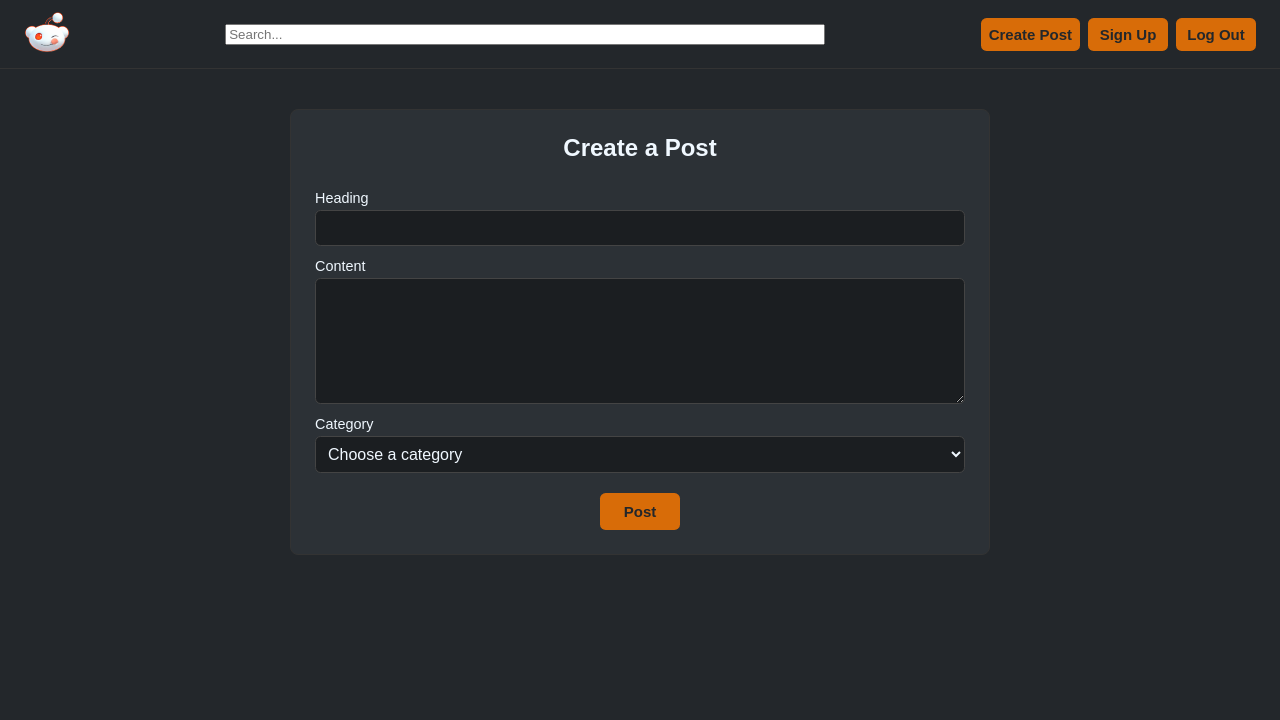
Test: shows the server's error when the post is rejected
In the field labelled "Heading": (640, 228) [315,210,965,246], type "My brand new post"
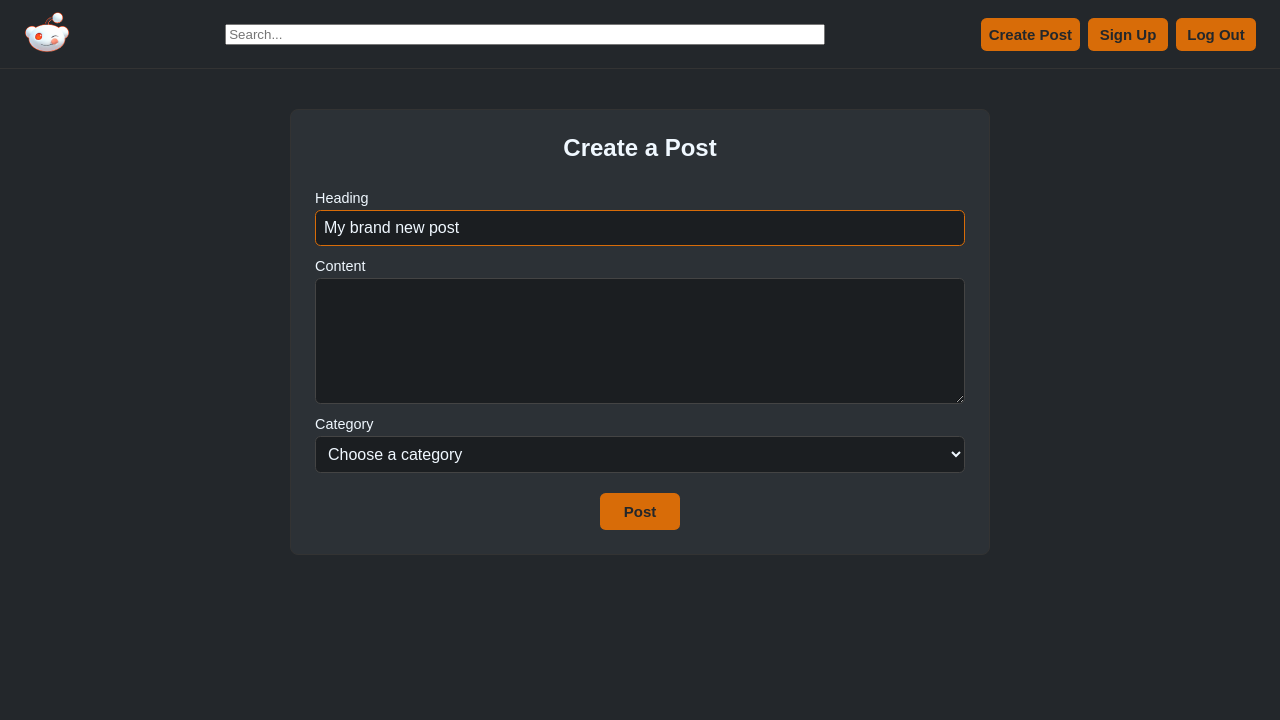
In the text box labelled "Content": (640, 341) [315,278,965,404], type "Something worth sharing"
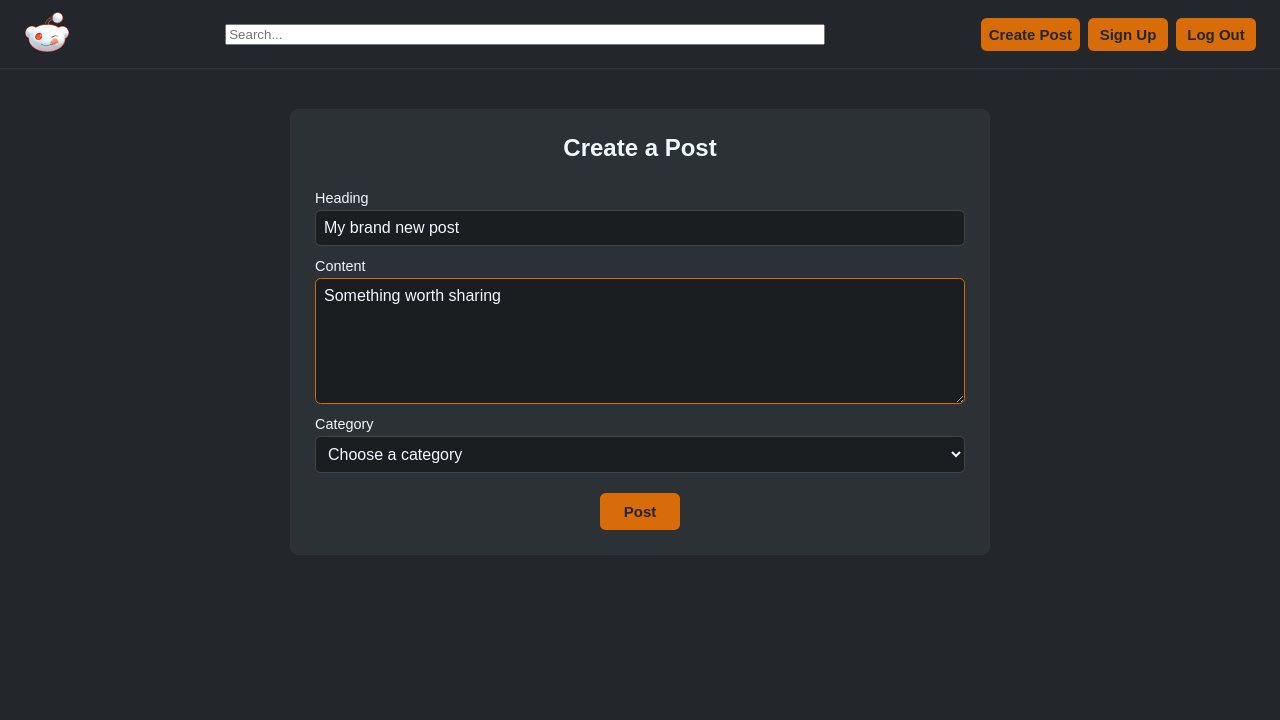
Select "Technology" in the dropdown labelled "Category": (640, 454) [315,436,965,473]
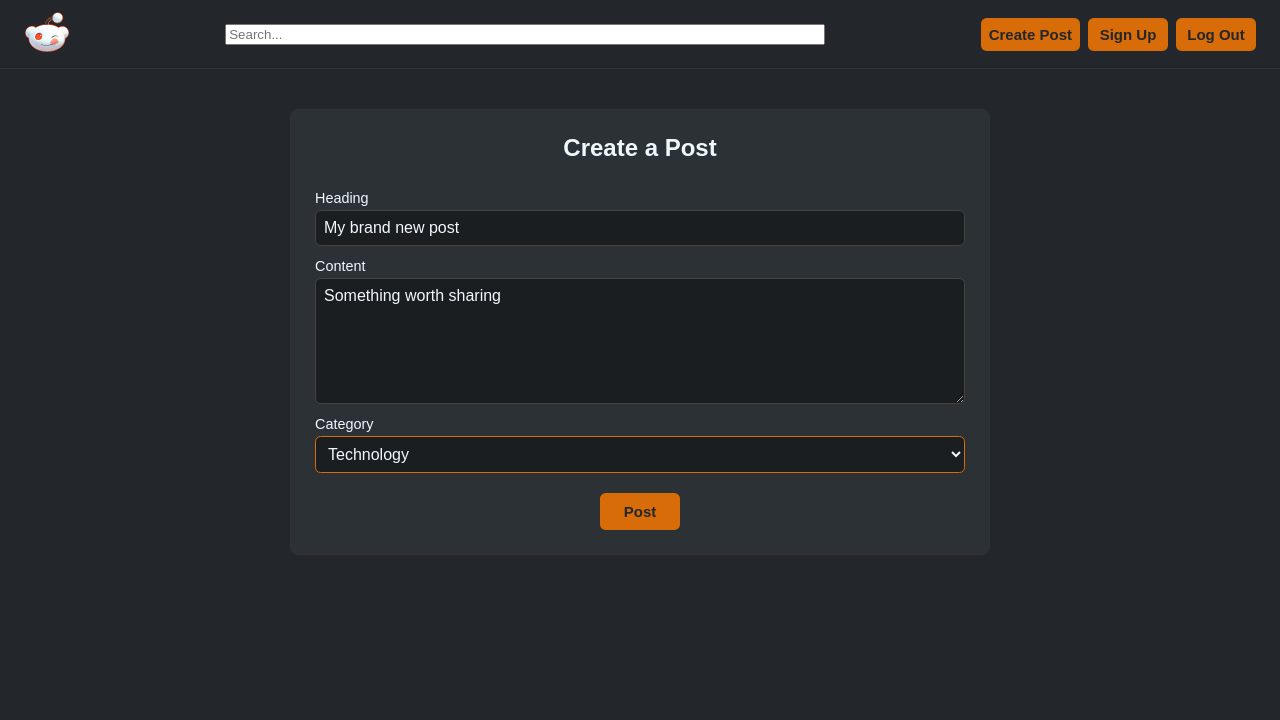
Click the button "Post": click(640, 512) [600,493,680,530]
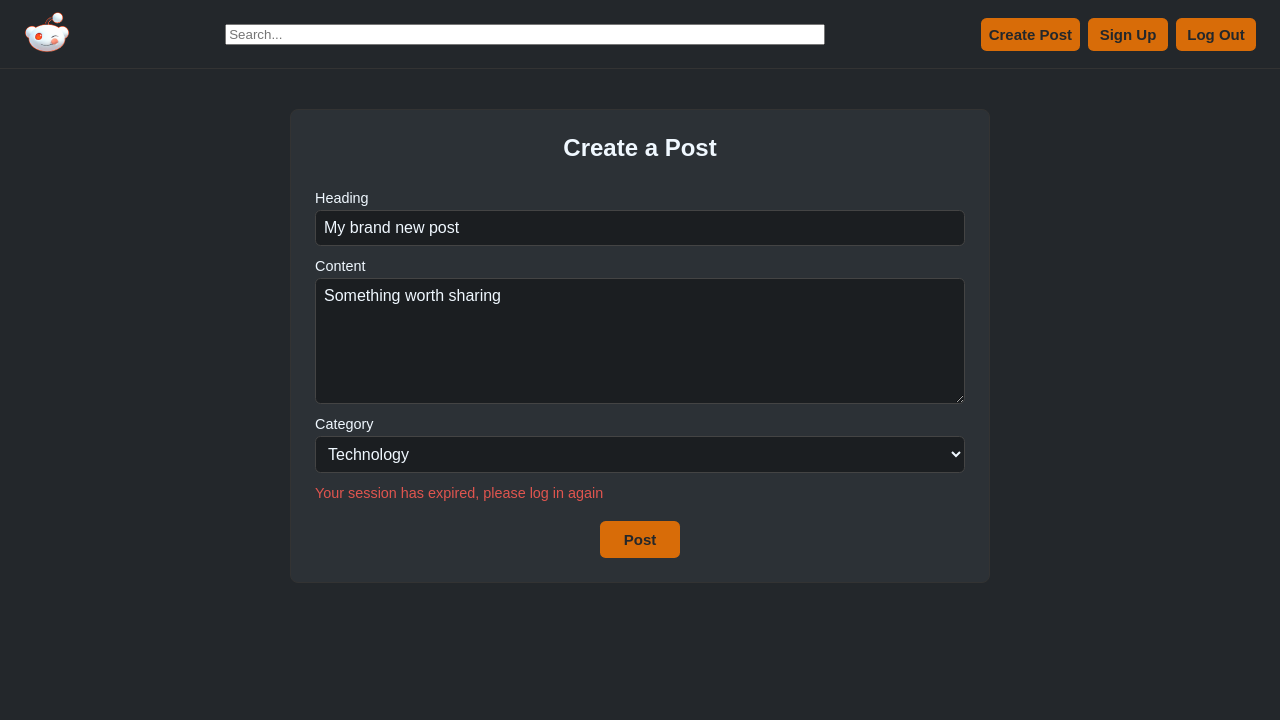
Result: the text "Your session has expired, please log in again" is shown at [315,485,603,501]
